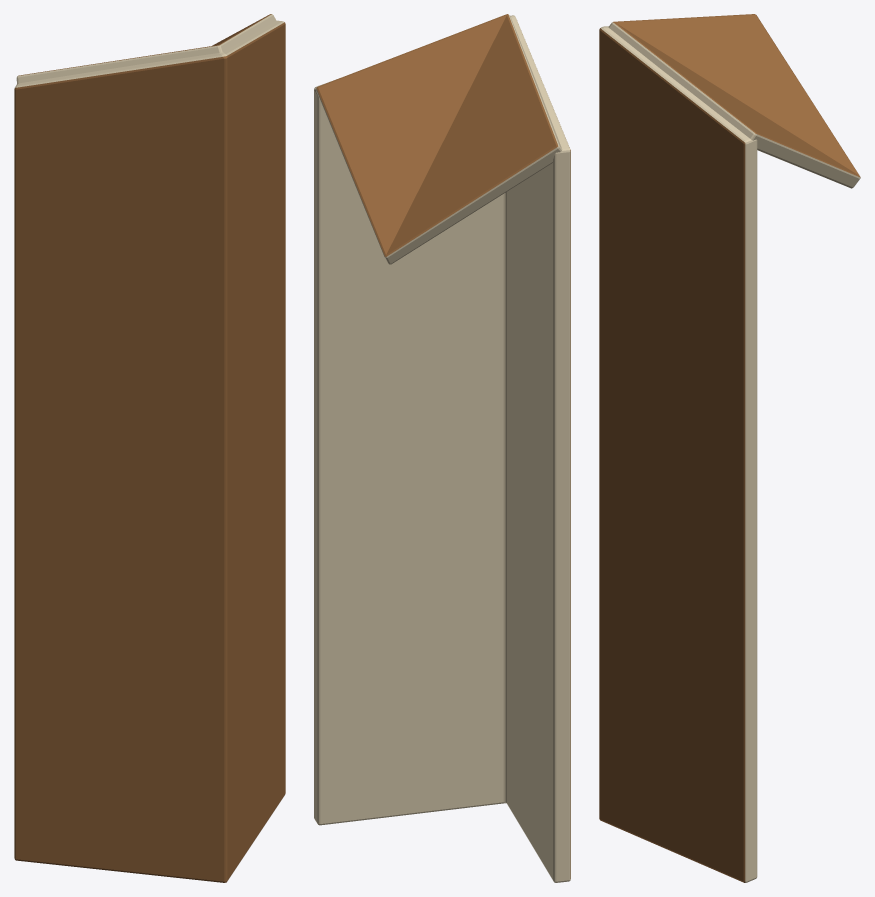
The model's file is level-bronze.glb.
3 renders of one model, left to right at view 1: azimuth 30°, elevation 25°; view 2: azimuth 150°, elevation 25°; view 3: azimuth 270°, elevation 25°, orthographic. The views are drawn at different scales.
Visible parts, largest first — view 1: level-bronze; view 2: level-bronze; view 3: level-bronze.
Part boxes in pixels (x1,y1,x2,y2): level-bronze: (14,14,285,882); level-bronze: (314,14,570,882); level-bronze: (599,14,860,882).
Size of the model in its own units: 0.3114 by 0.9154 by 0.2716.
